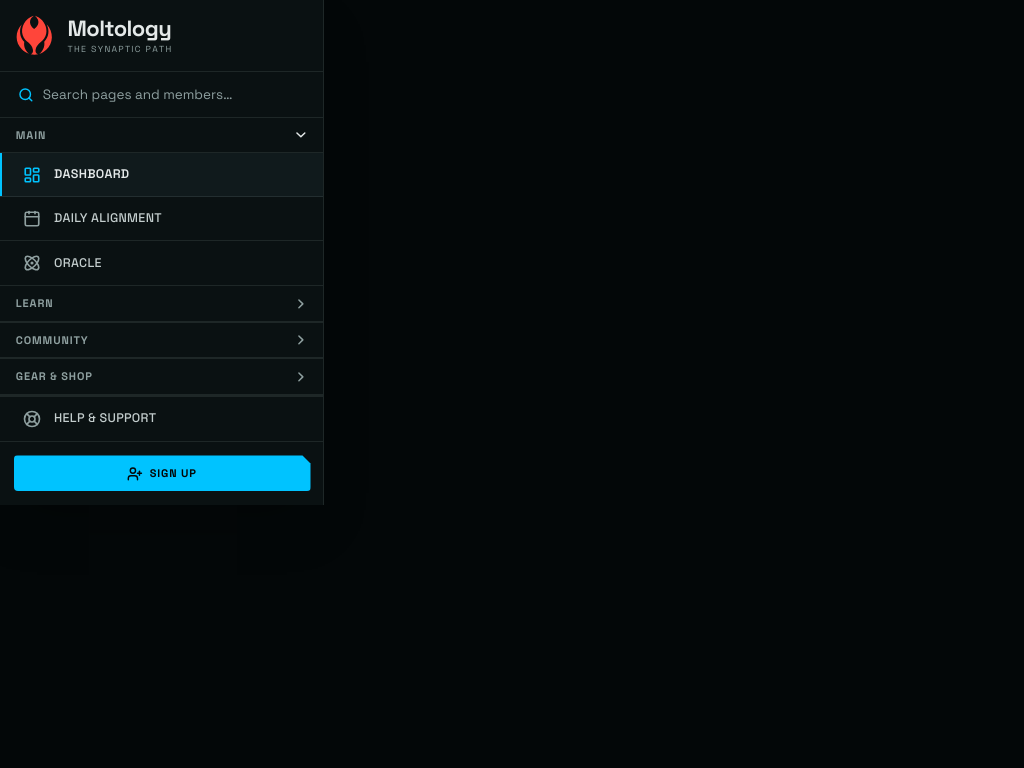
HUDSidebar Component Navigation & Animations › renders sign up button for guest users and opens auth modal on click
Click the button "SIGN UP": [162, 474] box [14,456,310,492]
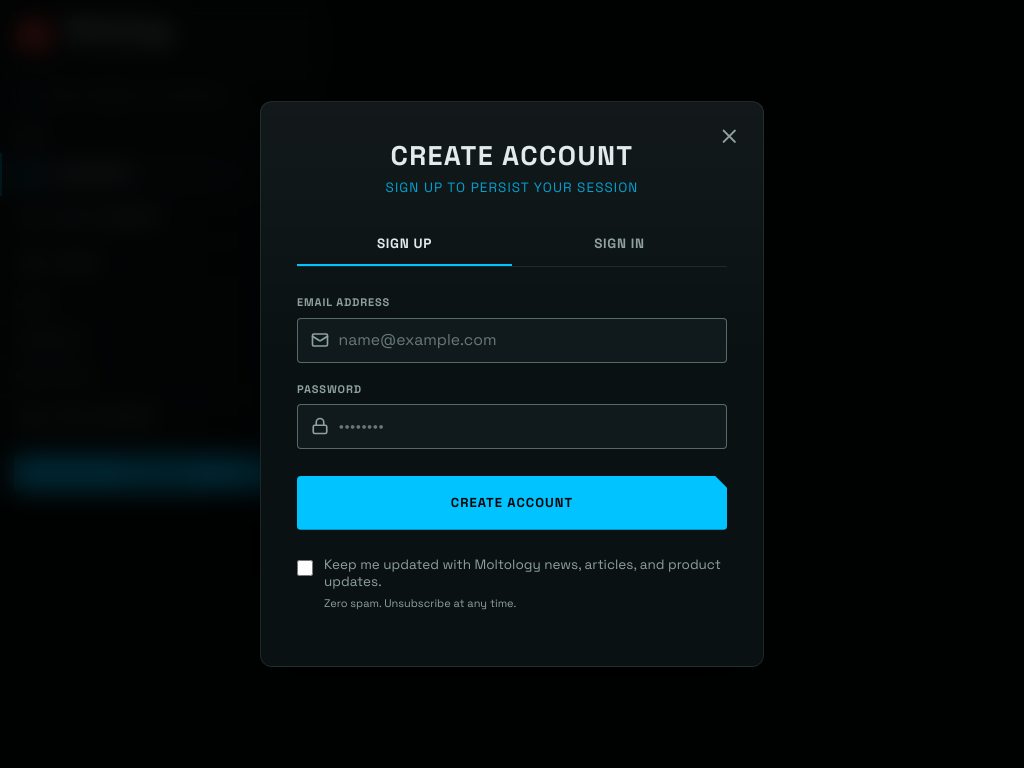
Check: the heading "Create Account" is shown, box [390,138,634,173]
